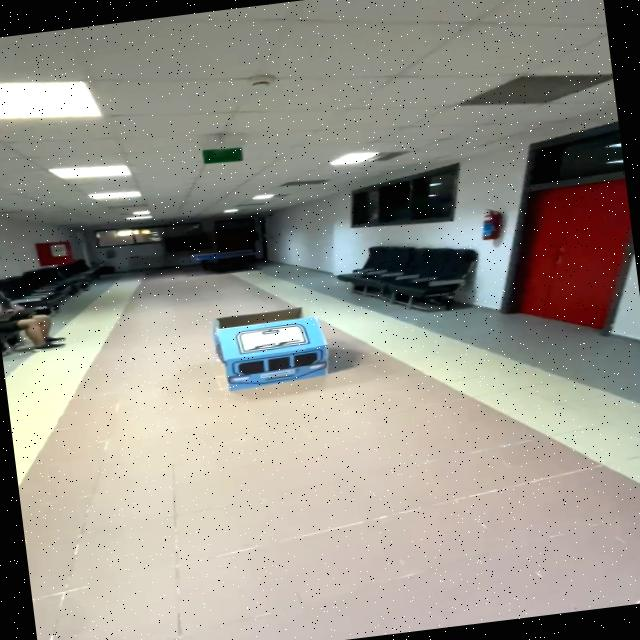blue_car: (164, 290, 366, 421)
